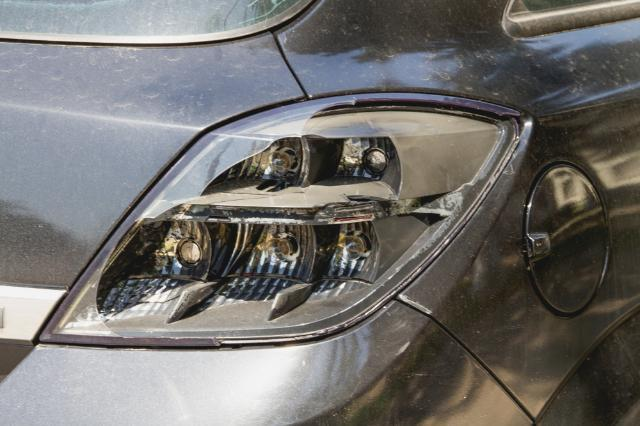lamp broken: (40, 95, 524, 347)
